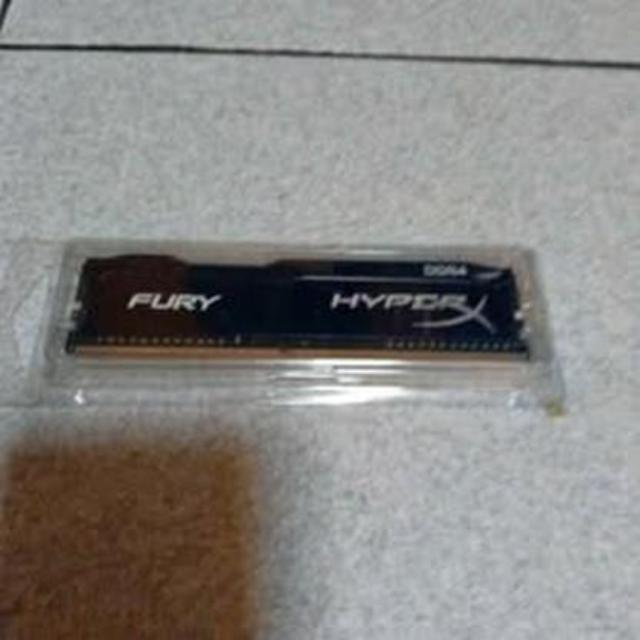RAM: (61, 256, 533, 373)
